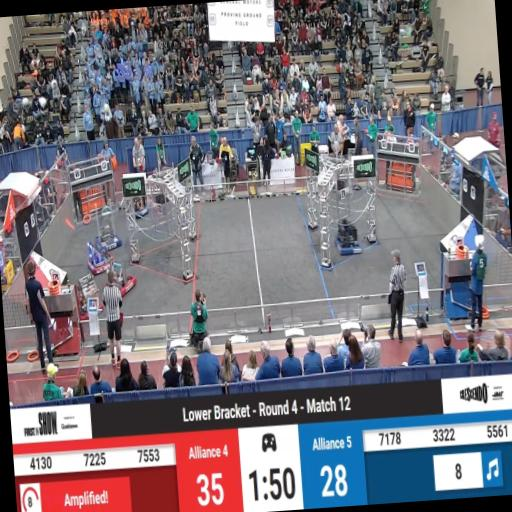robot: (76, 273, 105, 317), (104, 261, 137, 299), (92, 214, 122, 254), (86, 240, 116, 276), (334, 217, 362, 255), (131, 200, 149, 218)
